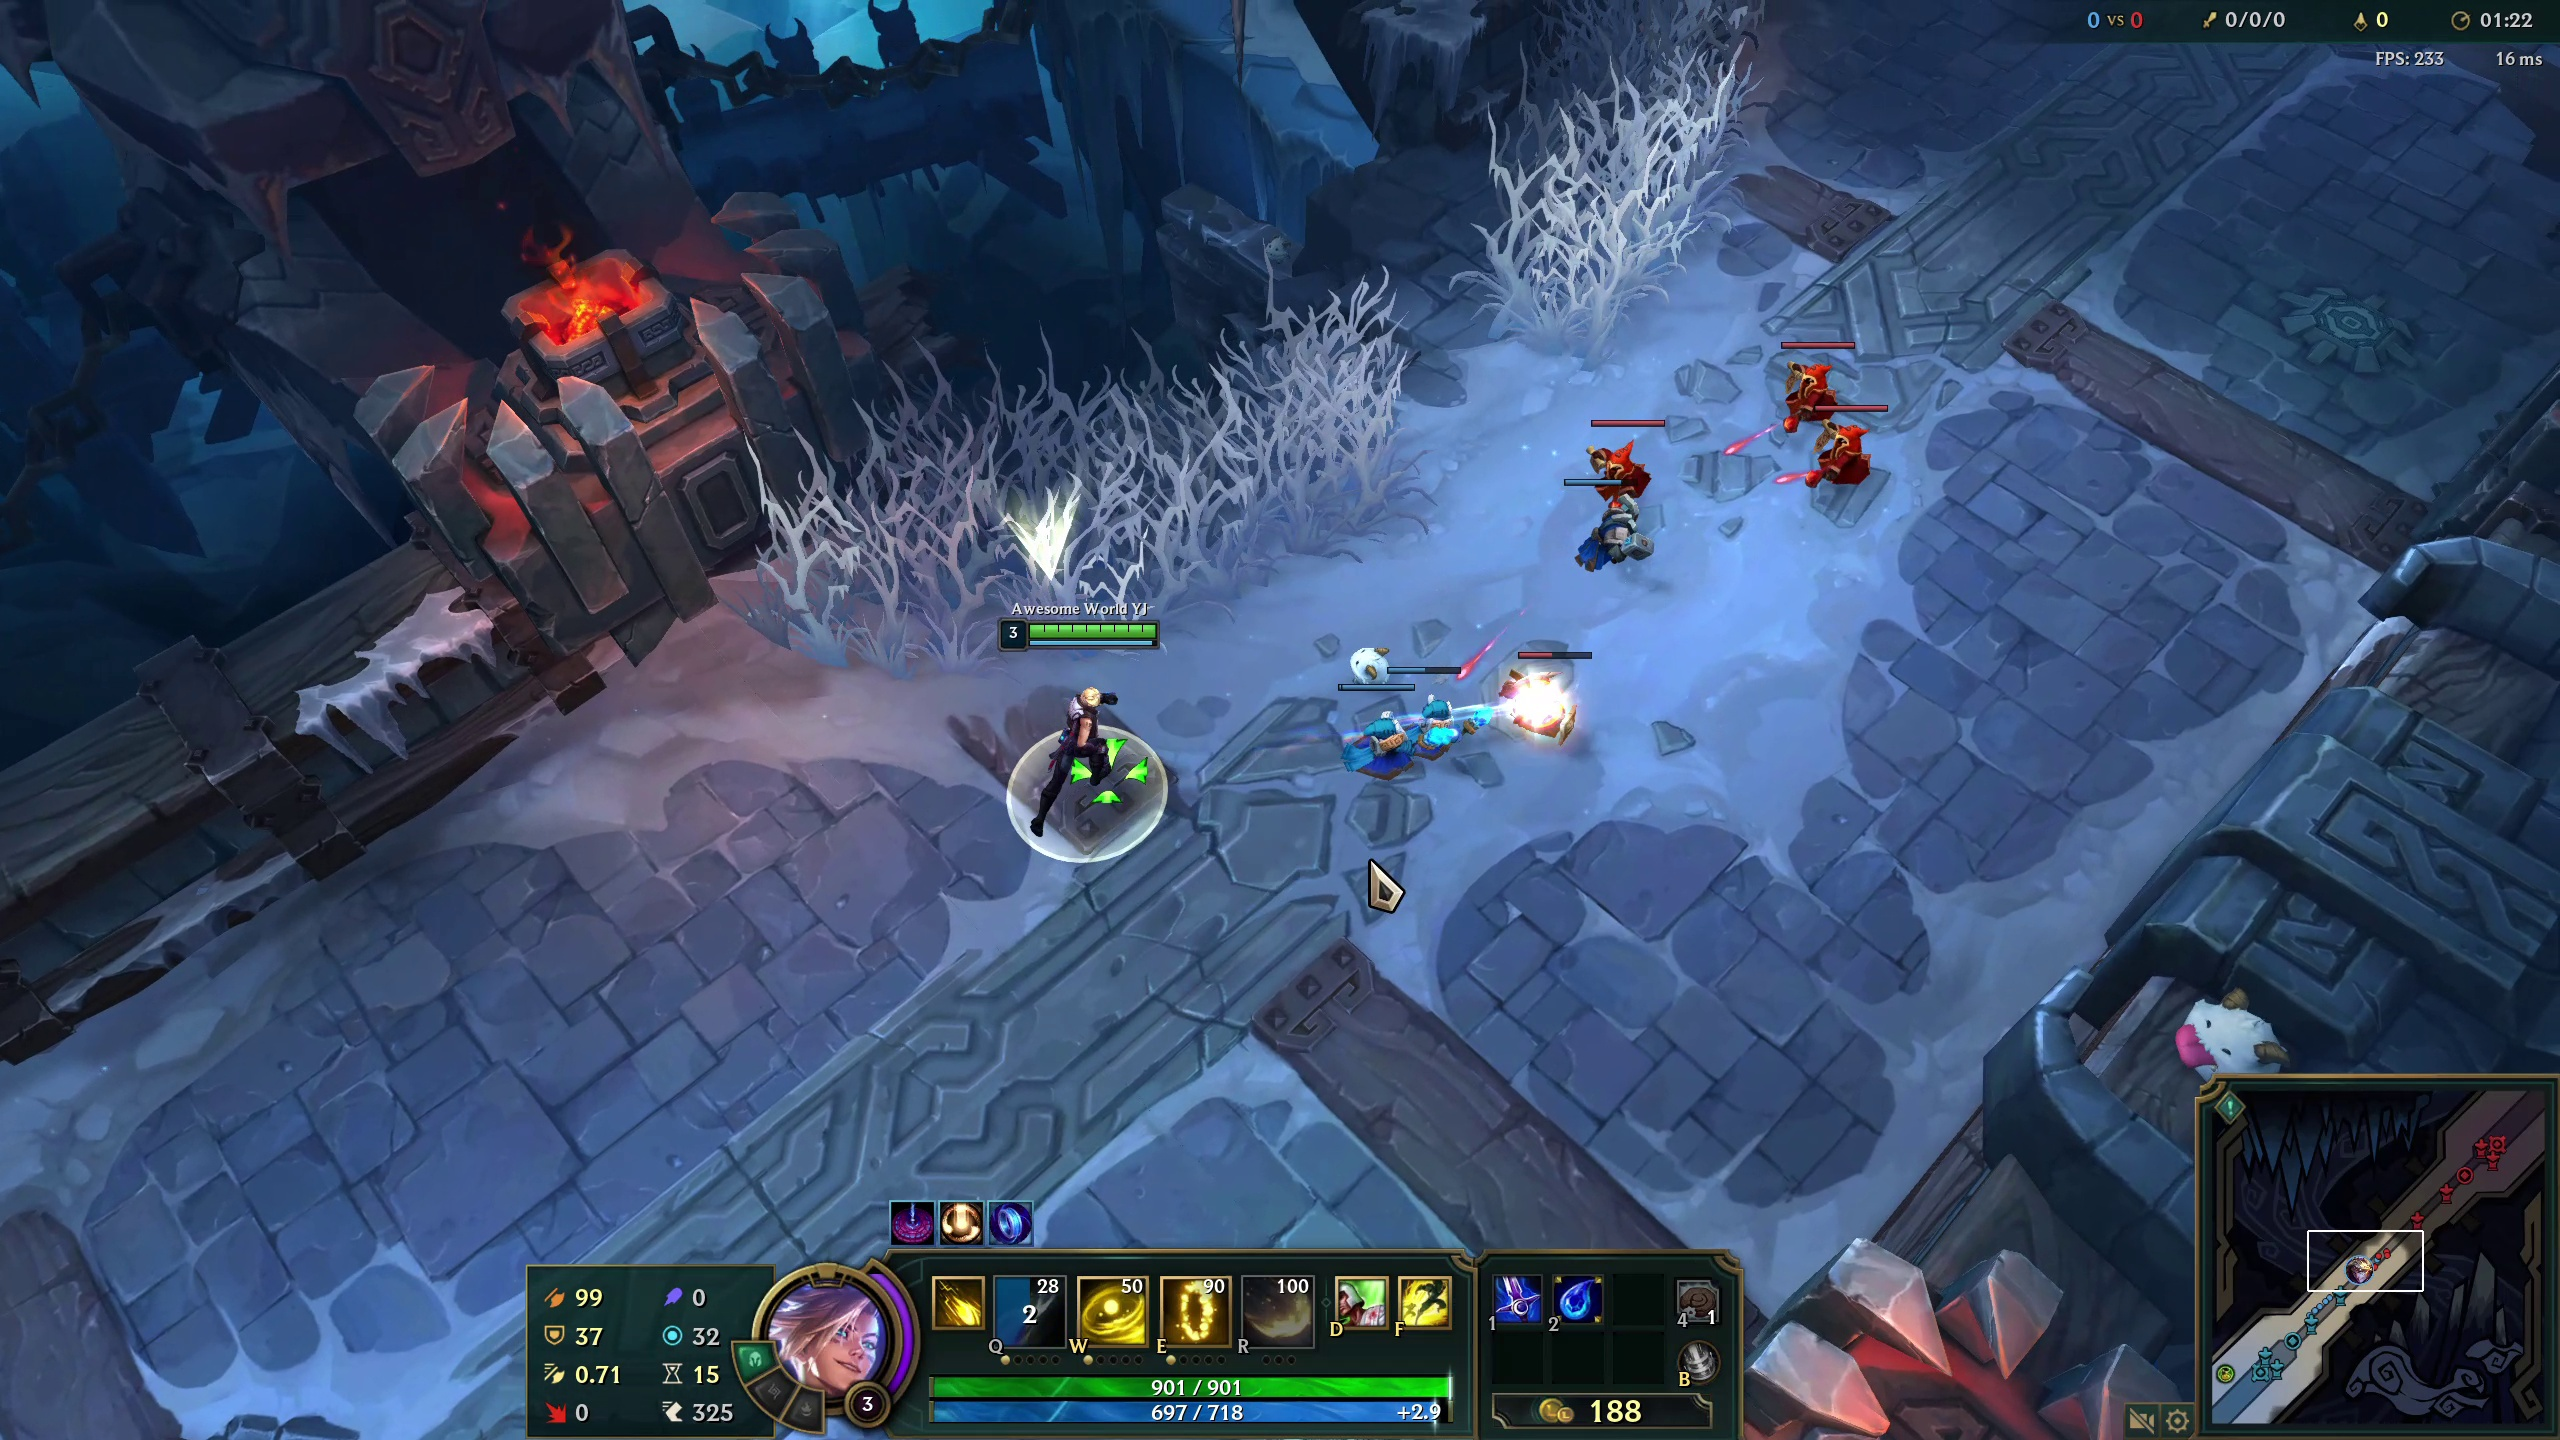EZ: (1006, 615, 1162, 842)
EnemyMinion: (1509, 644, 1596, 735), (1765, 325, 1844, 422), (1591, 399, 1669, 496), (1811, 396, 1888, 492)
Glass: (819, 411, 1368, 557), (1560, 28, 1714, 324)
MyMinion: (1553, 478, 1649, 571), (1333, 679, 1422, 777), (1391, 658, 1479, 753)
